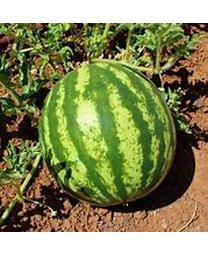watermelon: (39, 59, 179, 212)
